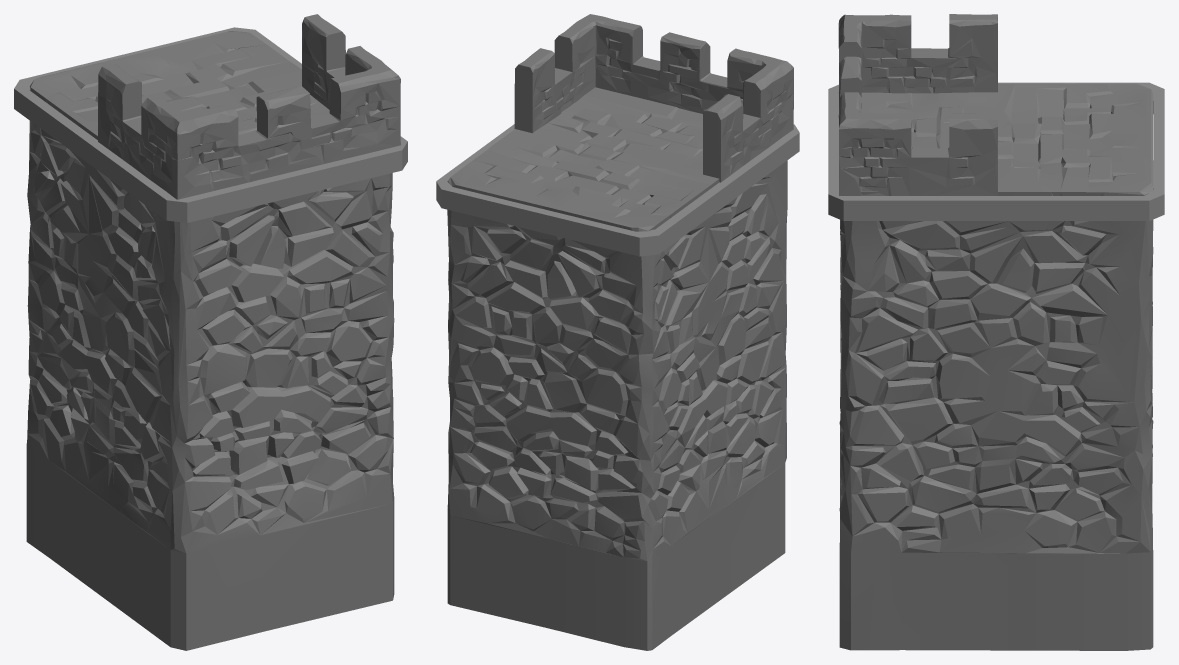
File: castle_battlement_corner_b.FBX
The picture shows the model from 3 angles, left to right: view 1: azimuth 30°, elevation 25°; view 2: azimuth 150°, elevation 25°; view 3: azimuth 270°, elevation 25°; orthographic projection. The views are drawn at different scales.
Parts seen in each view (by area): view 1: castle_battlement_corner_b; view 2: castle_battlement_corner_b; view 3: castle_battlement_corner_b.
Part boxes in pixels (x1,y1,x2,y2): castle_battlement_corner_b: (14,14,407,650); castle_battlement_corner_b: (436,14,799,650); castle_battlement_corner_b: (828,14,1164,650).
Size of the model in its own units: 4.9 by 10.25 by 5.9.
